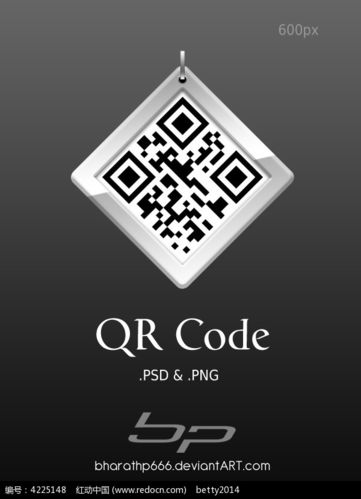QRCode: (98, 93, 272, 256)
